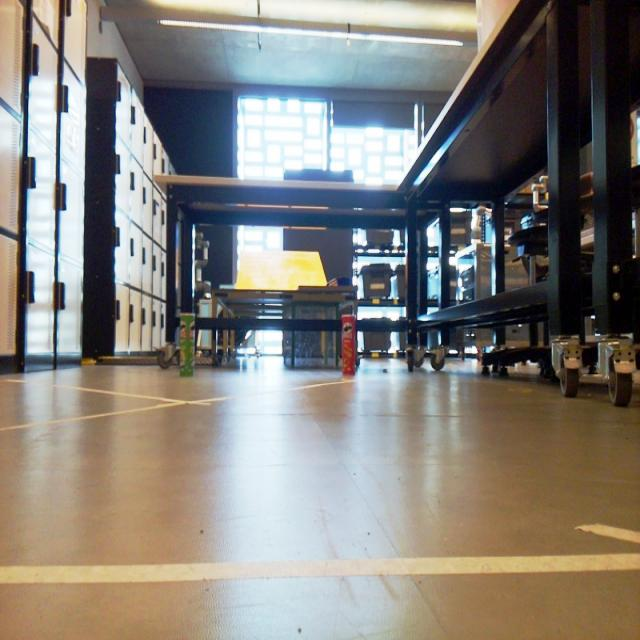greenpringles: (168, 302, 202, 381)
redpringles: (333, 302, 362, 377)
